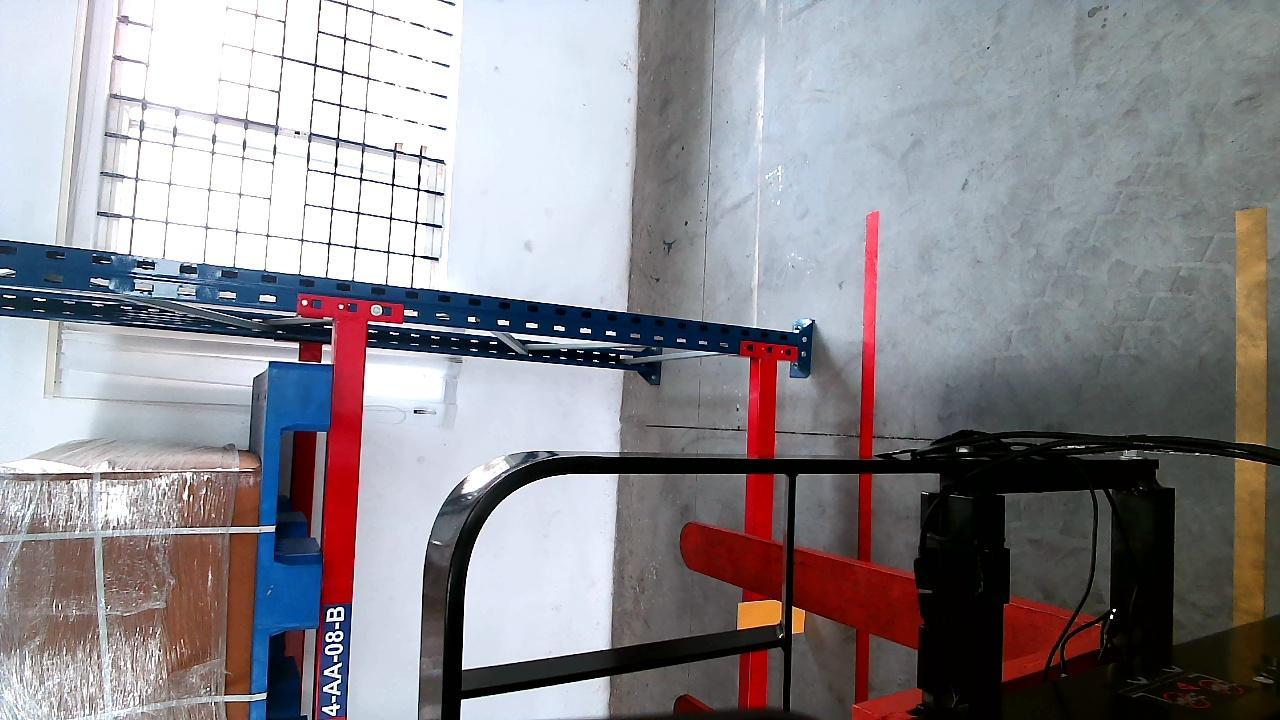red_line: (856, 209, 880, 565)
yellow_line: (1232, 188, 1269, 707)
